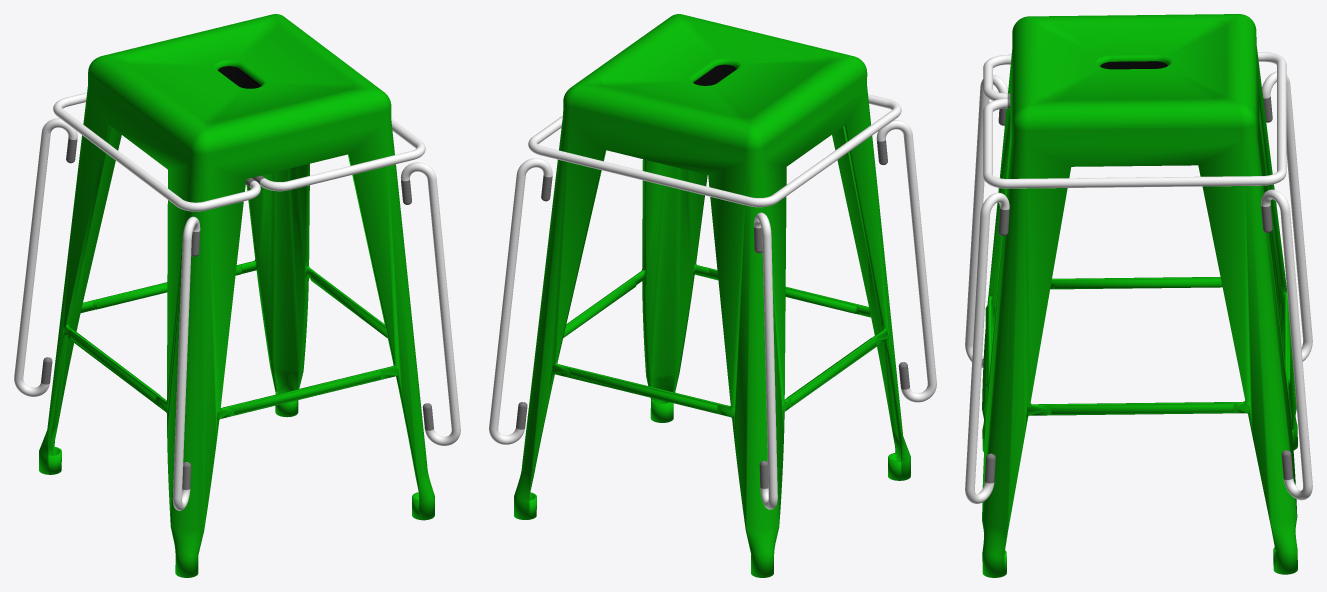
File: stool.glb
3 views of the same model, side by side, from view 1: azimuth 30°, elevation 25°; view 2: azimuth 150°, elevation 25°; view 3: azimuth 270°, elevation 25° (orthographic). The views are drawn at different scales.
Parts seen in each view (by area): view 1: full_stool; view 2: full_stool; view 3: full_stool.
Boxes of the visible parts, bbox=[...] form: full_stool: bbox=[14, 14, 460, 577]; full_stool: bbox=[489, 14, 936, 577]; full_stool: bbox=[965, 14, 1312, 577].
Bounding box in the file's own units: 0.7378 × 1.04 × 0.7275.
